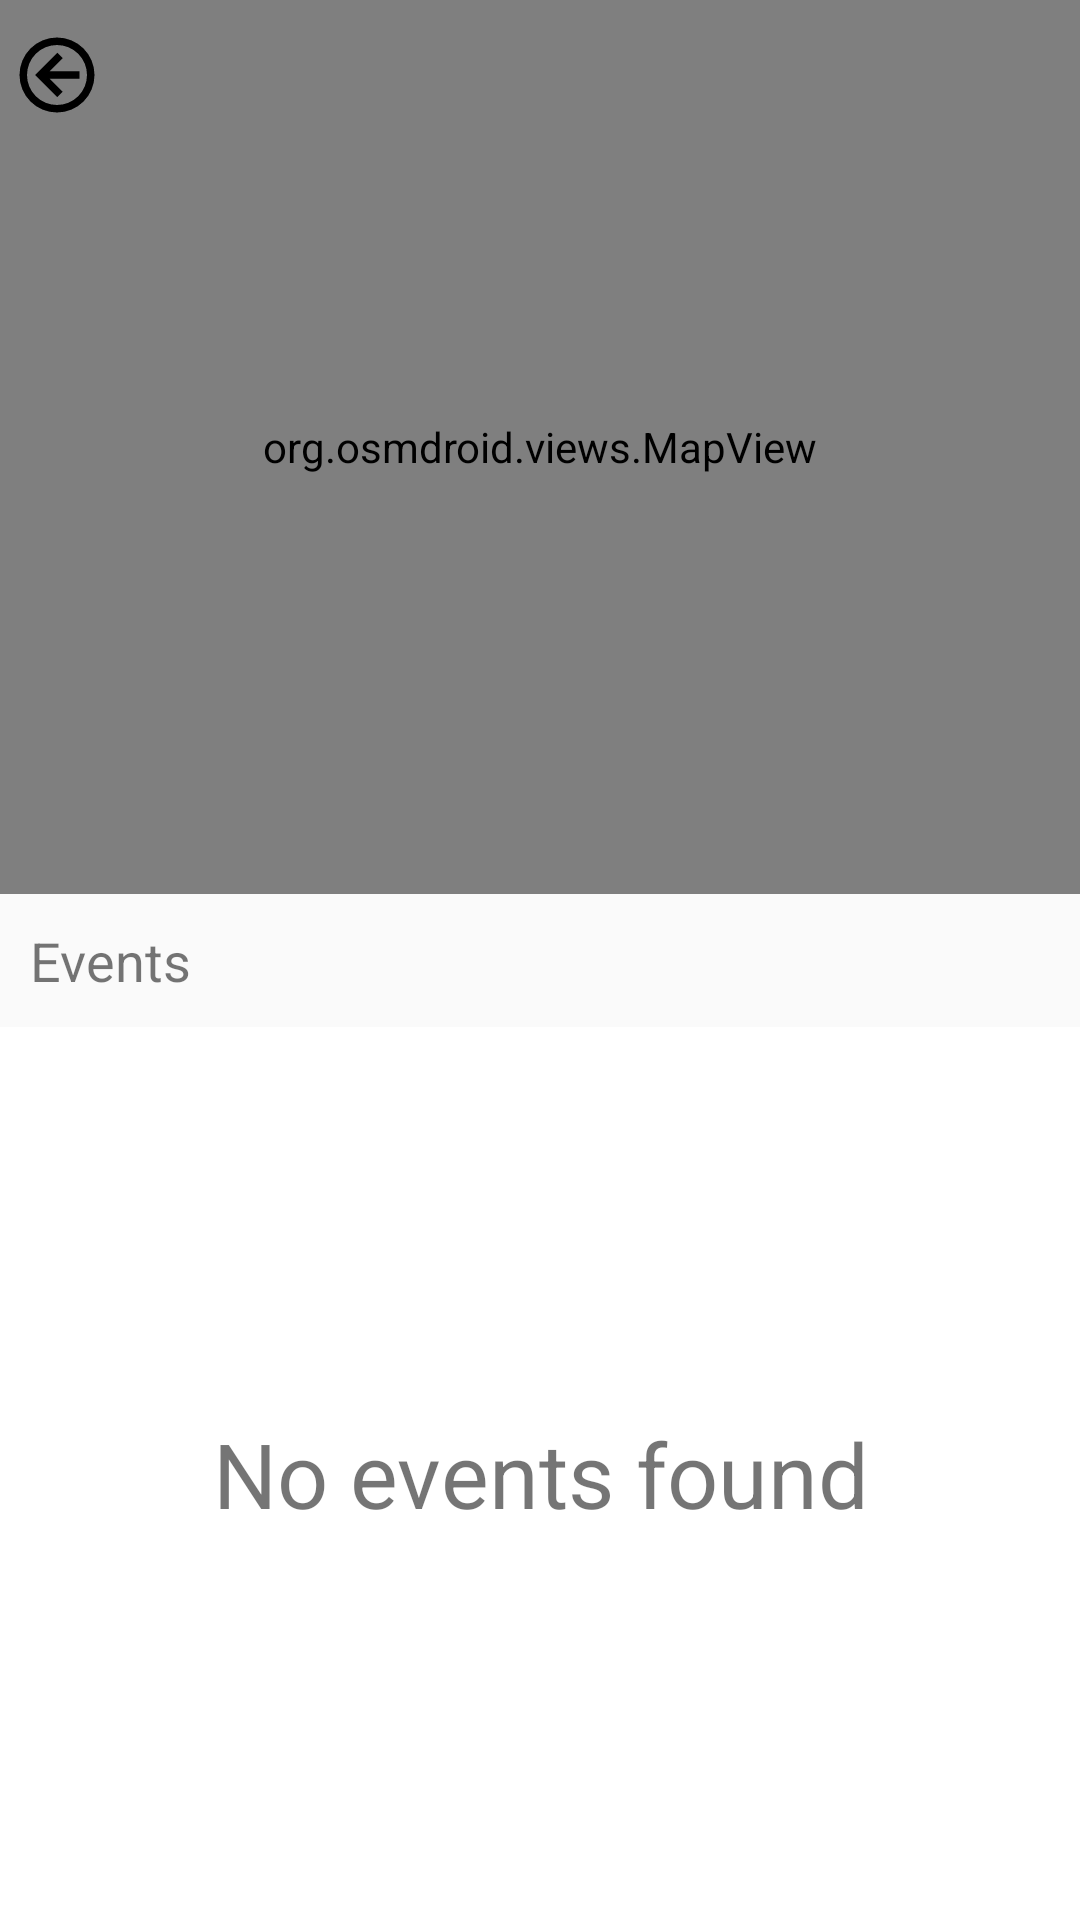

Icons on this 1080w x 1920h Android screen, each with its box as BBox(x1, y1, x2, y2):
arrow left circle: BBox(19, 37, 95, 113)
